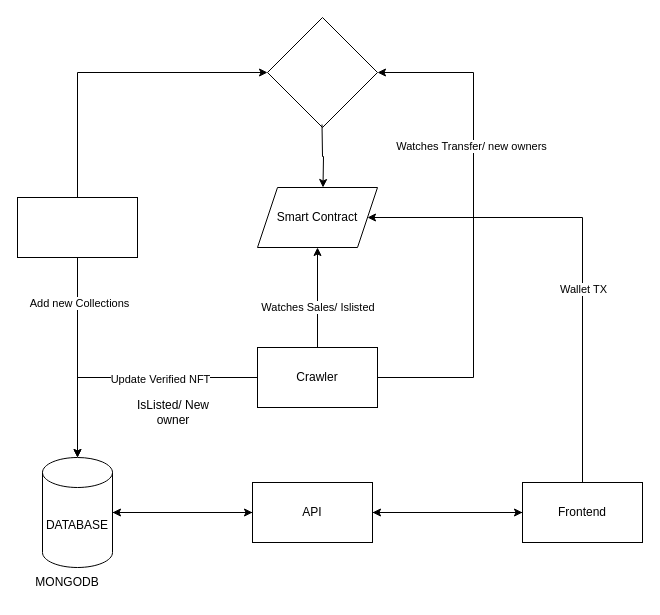
Some shapes in this 660 by 615 pixel diagram are drawn without their labels. Here are the shapes that lost their labels. From the top down, the box of each, then its label:
(266, 16, 378, 128): Blockchain
(16, 196, 138, 258): Sync.js
